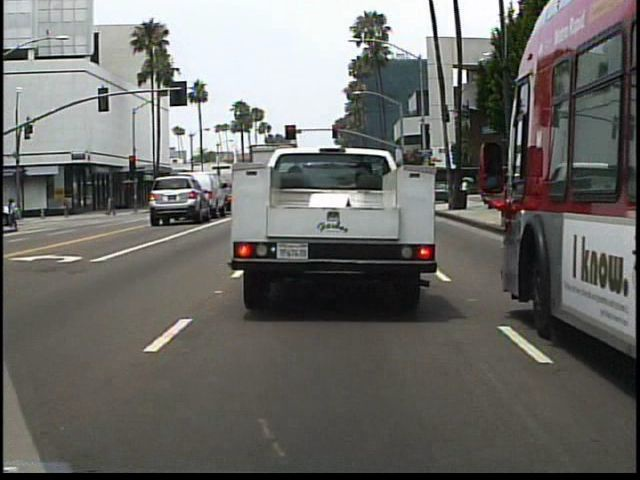person: (63, 191, 75, 218)
